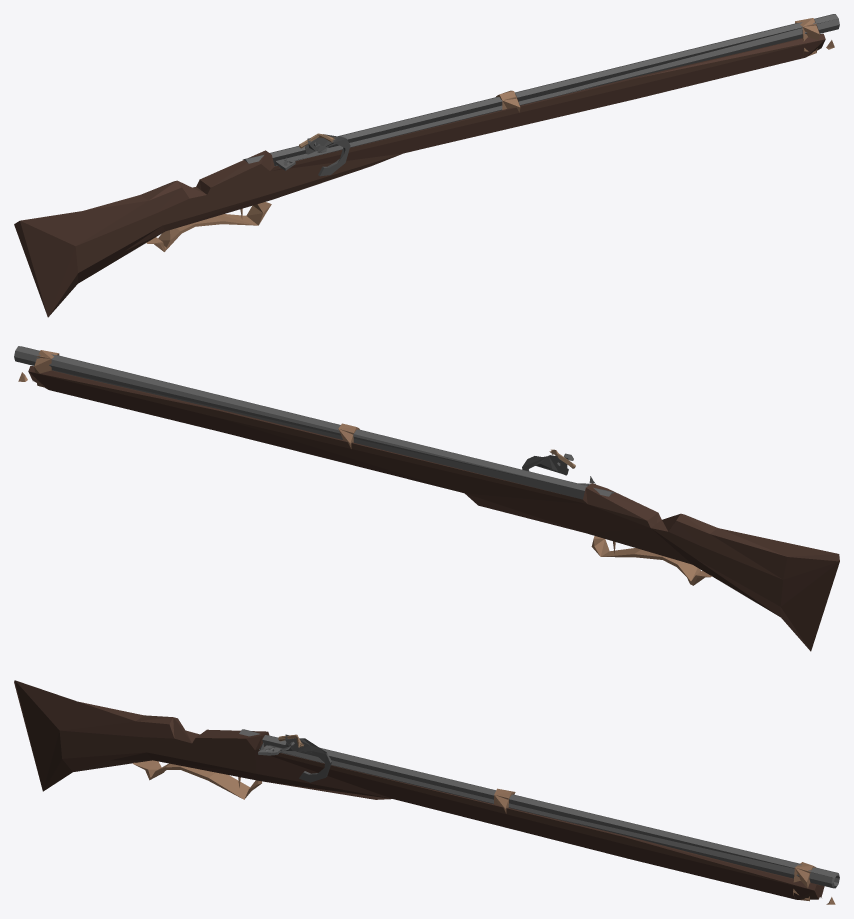
The model's file is Musket_LOD3.fbx.
3 views of the same model, one above another, from view 1: azimuth 30°, elevation 25°; view 2: azimuth 150°, elevation 25°; view 3: azimuth 330°, elevation 25° (orthographic).
Visible parts, largest first — view 1: CP_Renaissance_Matchlock_Base, CP_Renaissance_Matchlock_Hammer; view 2: CP_Renaissance_Matchlock_Base, CP_Renaissance_Matchlock_Hammer; view 3: CP_Renaissance_Matchlock_Base, CP_Renaissance_Matchlock_Hammer.
Boxes of the visible parts, x1,y1,x2,y2 form: CP_Renaissance_Matchlock_Base: (14,14,839,317); CP_Renaissance_Matchlock_Hammer: (299,133,350,176); CP_Renaissance_Matchlock_Base: (14,346,839,651); CP_Renaissance_Matchlock_Hammer: (522,449,575,475); CP_Renaissance_Matchlock_Base: (14,680,839,904); CP_Renaissance_Matchlock_Hammer: (278,734,331,782).
Bounding box in the file's own units: 770 × 114 × 43.41.
